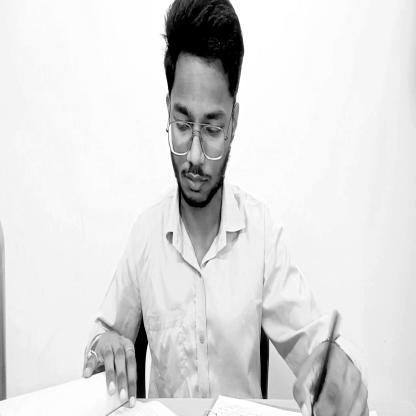Normal: (161, 5, 246, 213)
